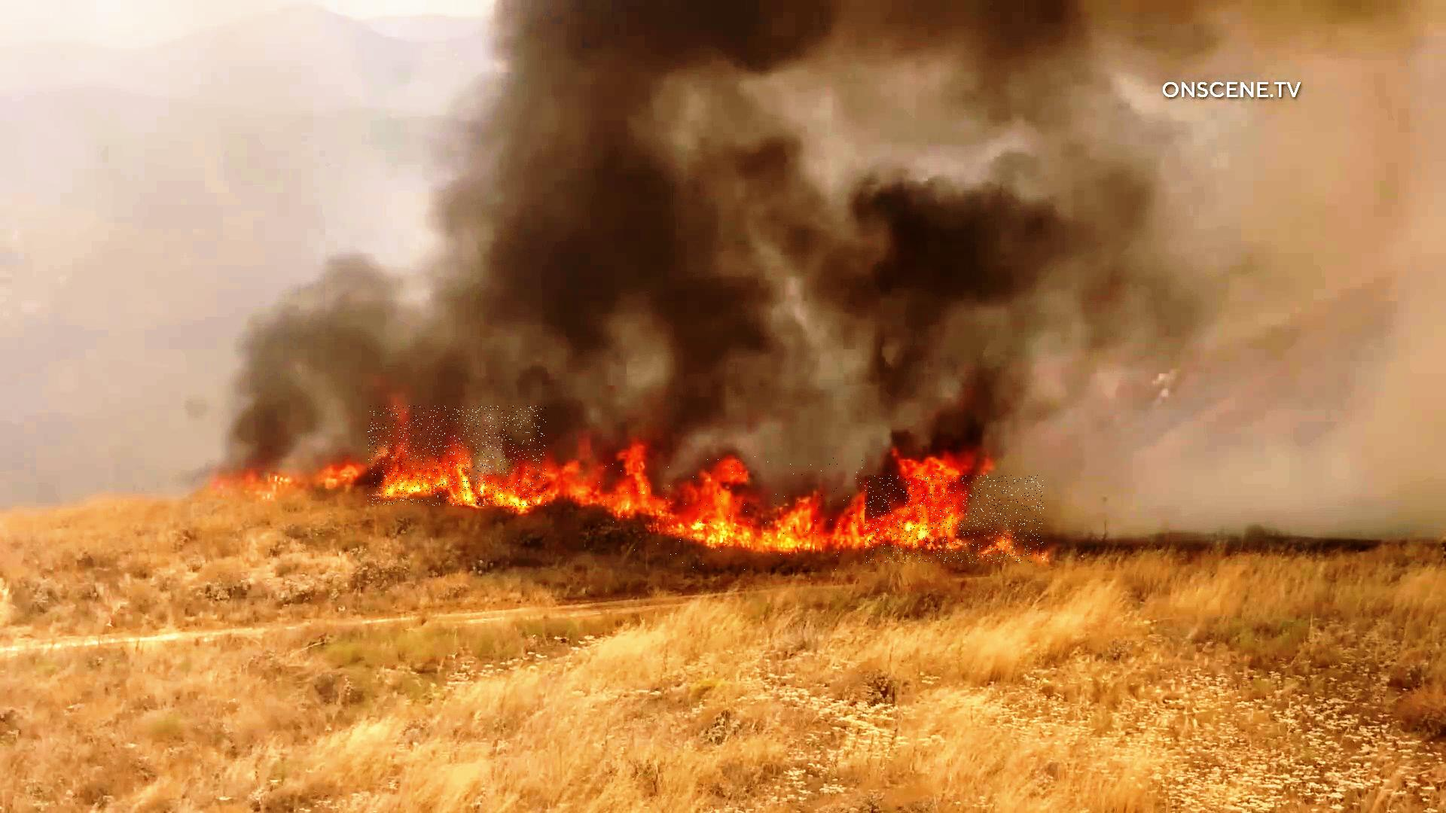fire: (599, 456, 878, 572), (368, 406, 546, 506), (865, 475, 1044, 563)
